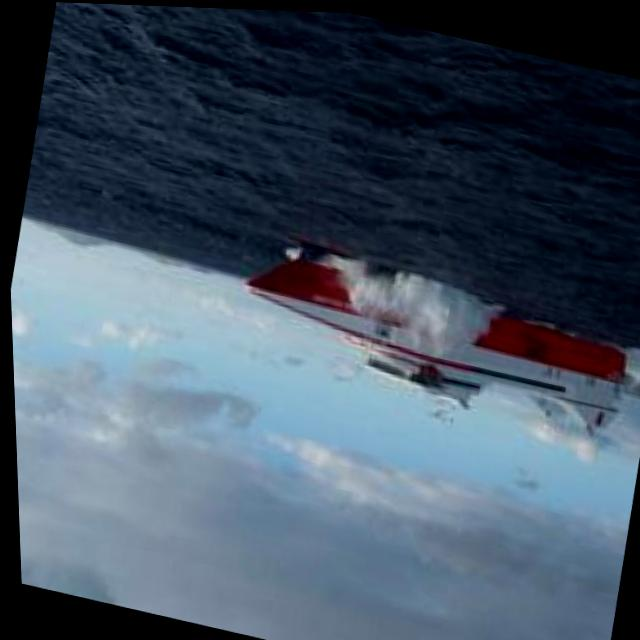ship2: (240, 244, 626, 437)
